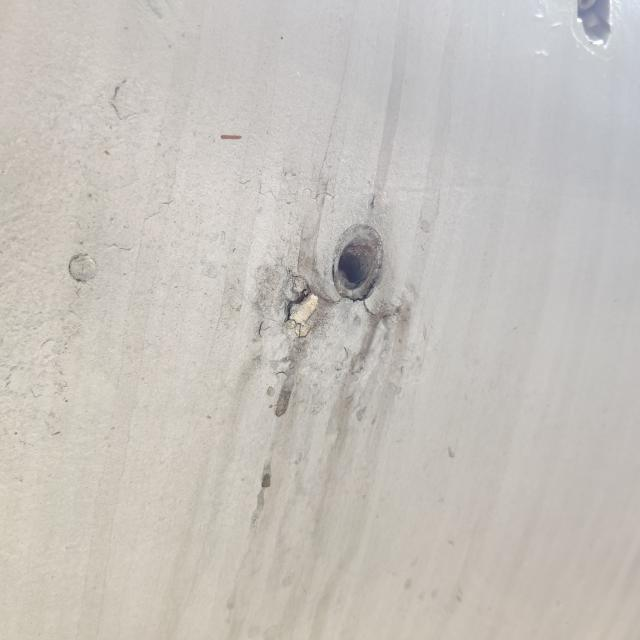crack: (264, 269, 342, 341)
